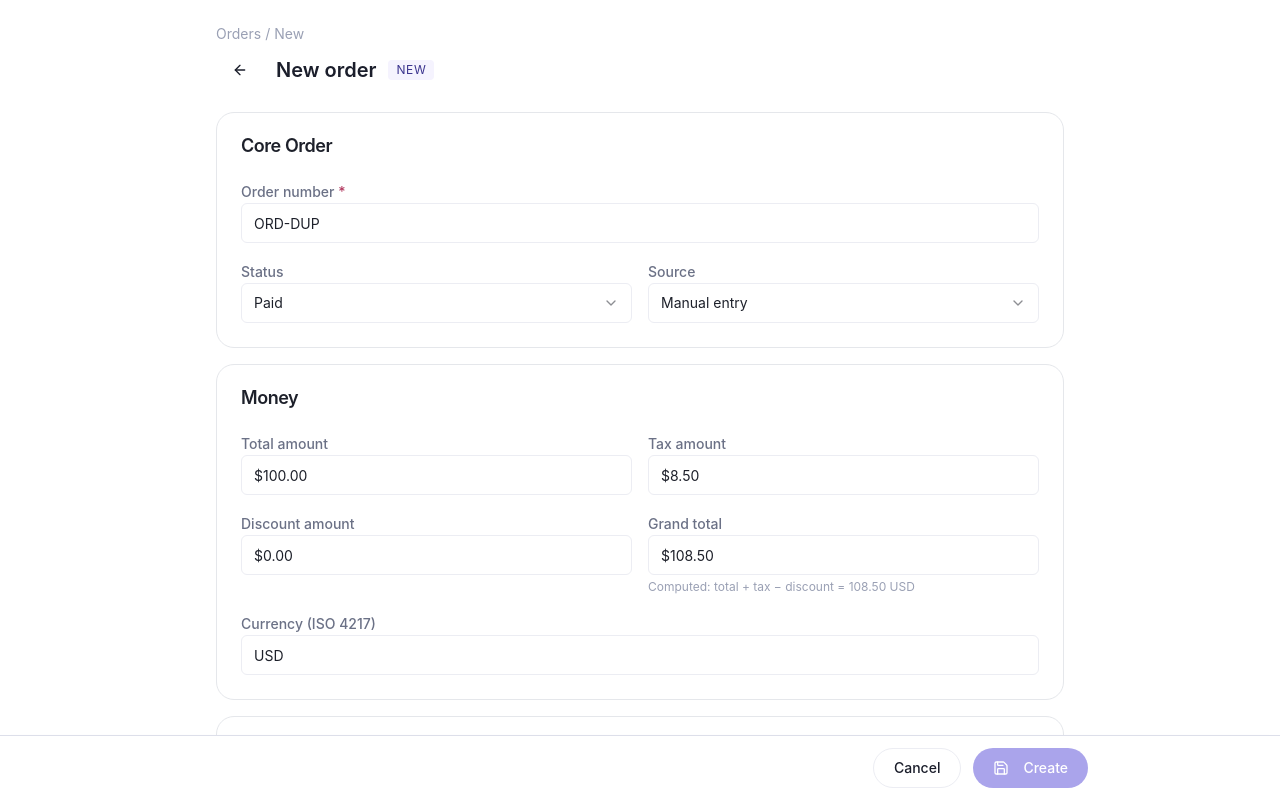
Test: KAN-945 — OrderForm › (14) Q8: friendly duplicate-orderNumber error displays verbatim
Replace the text in the field labelled "Order number *" with "ORD-DUP-EDITED" at (640, 223), box [241, 203, 1039, 243]
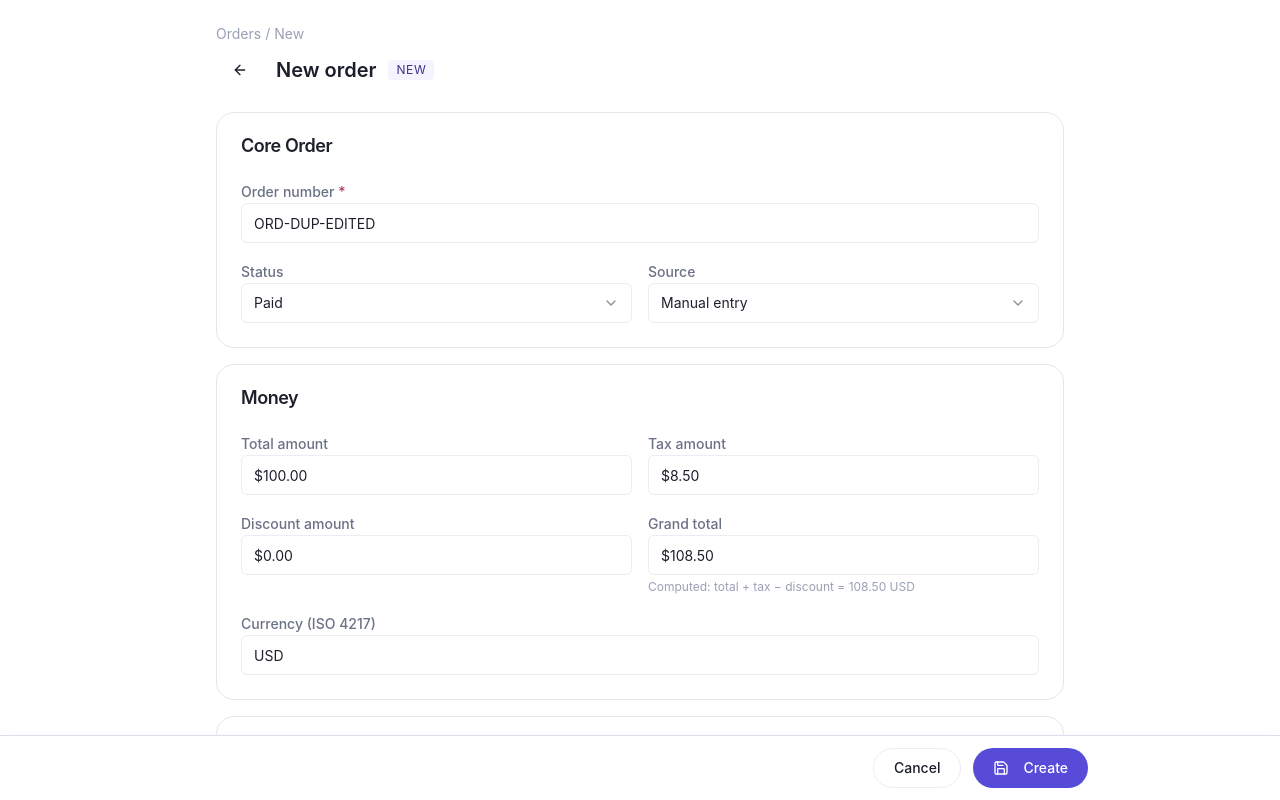
Click the button "Create" at (1031, 768), box [973, 748, 1088, 788]
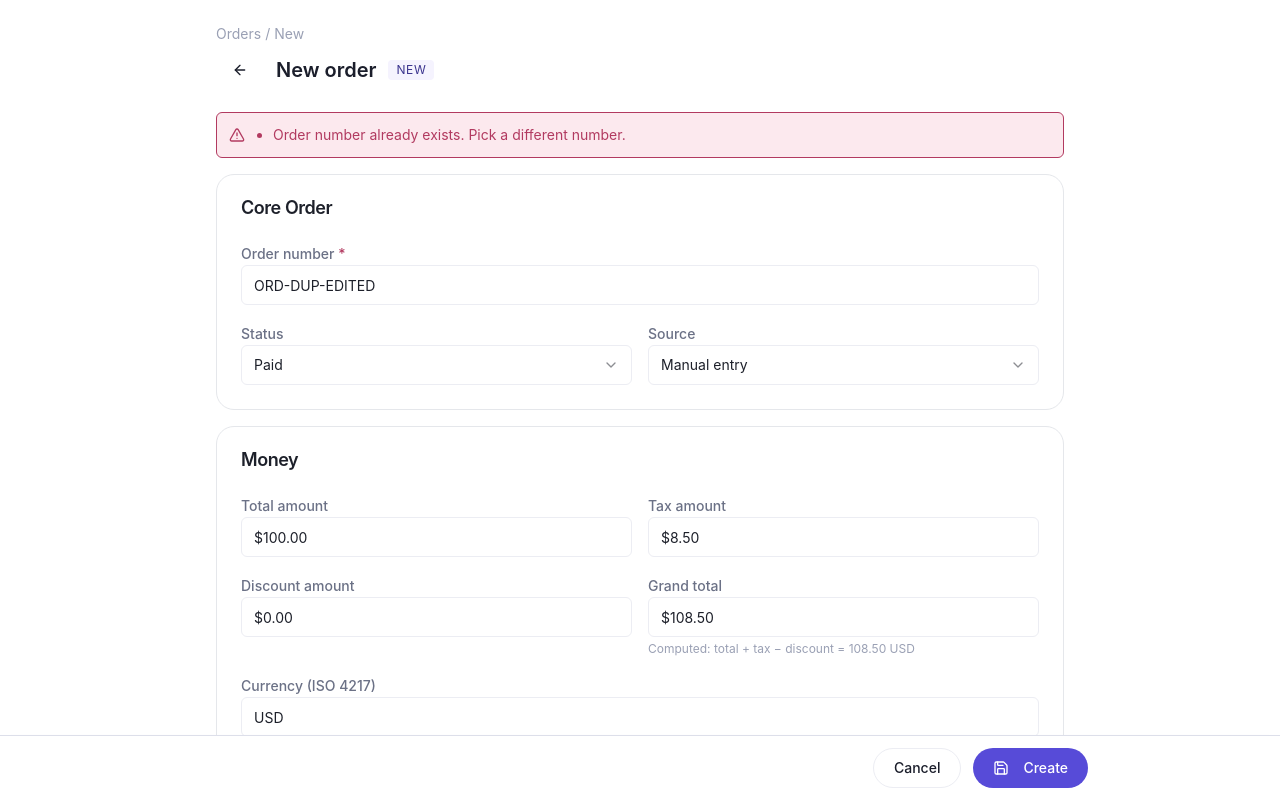
Result: the list item "Order number already exists. Pick a different number." is shown at [273, 125, 626, 145]
